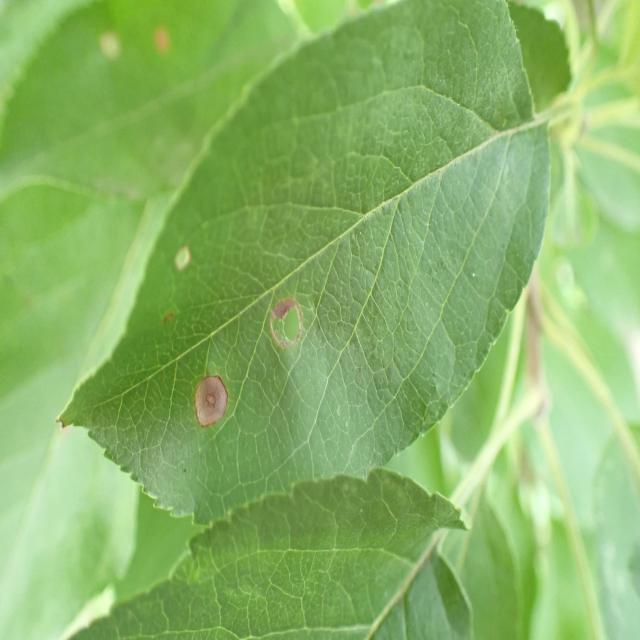Black Rot: (260, 284, 326, 354), (192, 354, 236, 440), (166, 237, 205, 289)
